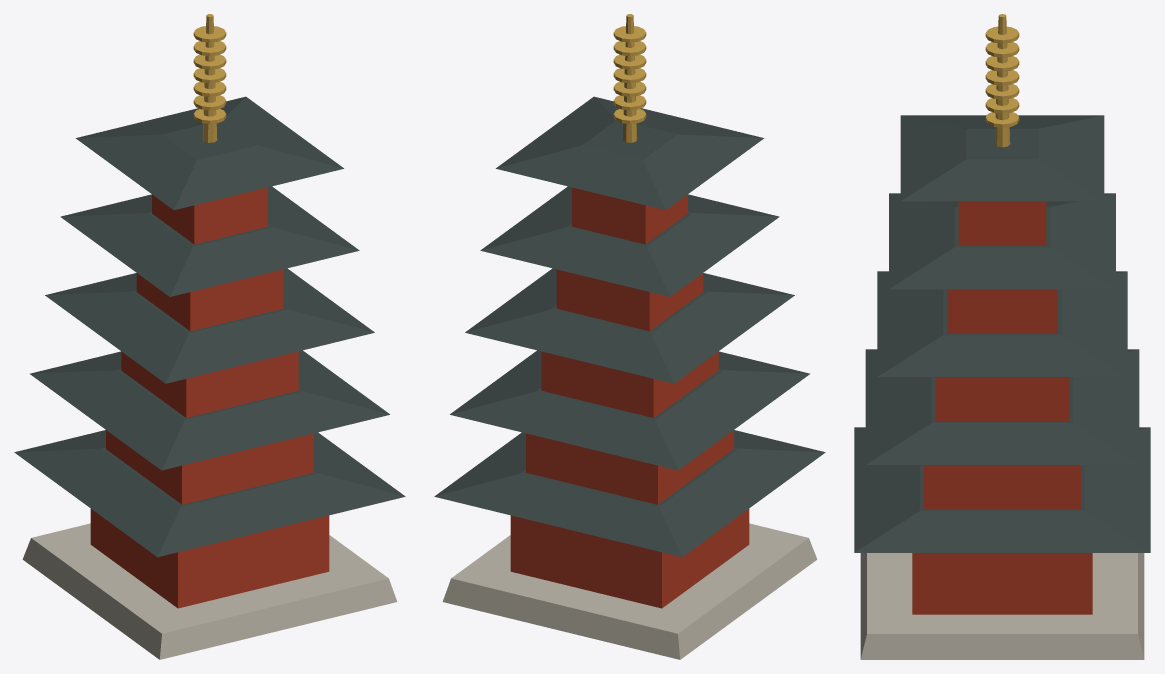
Rendered from pagoda.glb.
3 renders of one model, left to right at view 1: azimuth 30°, elevation 25°; view 2: azimuth 150°, elevation 25°; view 3: azimuth 270°, elevation 25°, orthographic. The views are drawn at different scales.
Size of the model in its own units: 23 by 50 by 23.
